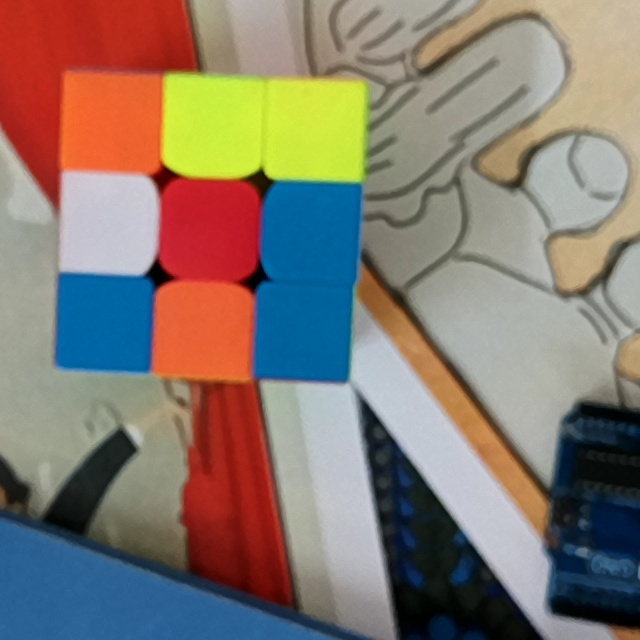tile: (67, 78, 153, 166), (274, 88, 358, 176), (274, 188, 354, 279), (170, 81, 256, 165), (64, 181, 147, 267), (60, 284, 147, 364), (168, 190, 249, 272), (263, 292, 344, 373), (160, 294, 246, 370)
